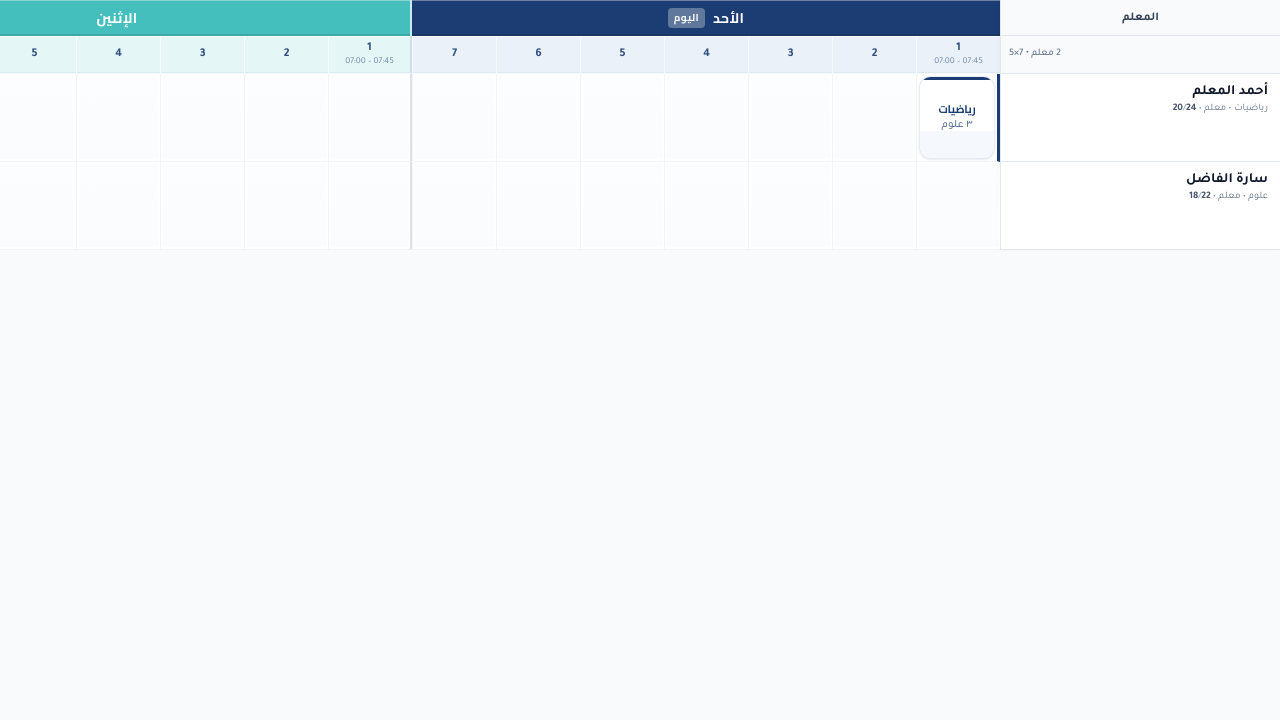
Scenario: MasterMatrix — cell interactions (Task #142) › clicking a filled session cell opens the read-only SessionDetailModal
The filled cell exposed via SessionCell renders as a button.
Click the button "رياضيات ٣ علوم". click: (957, 118)
box: [919, 76, 995, 159]
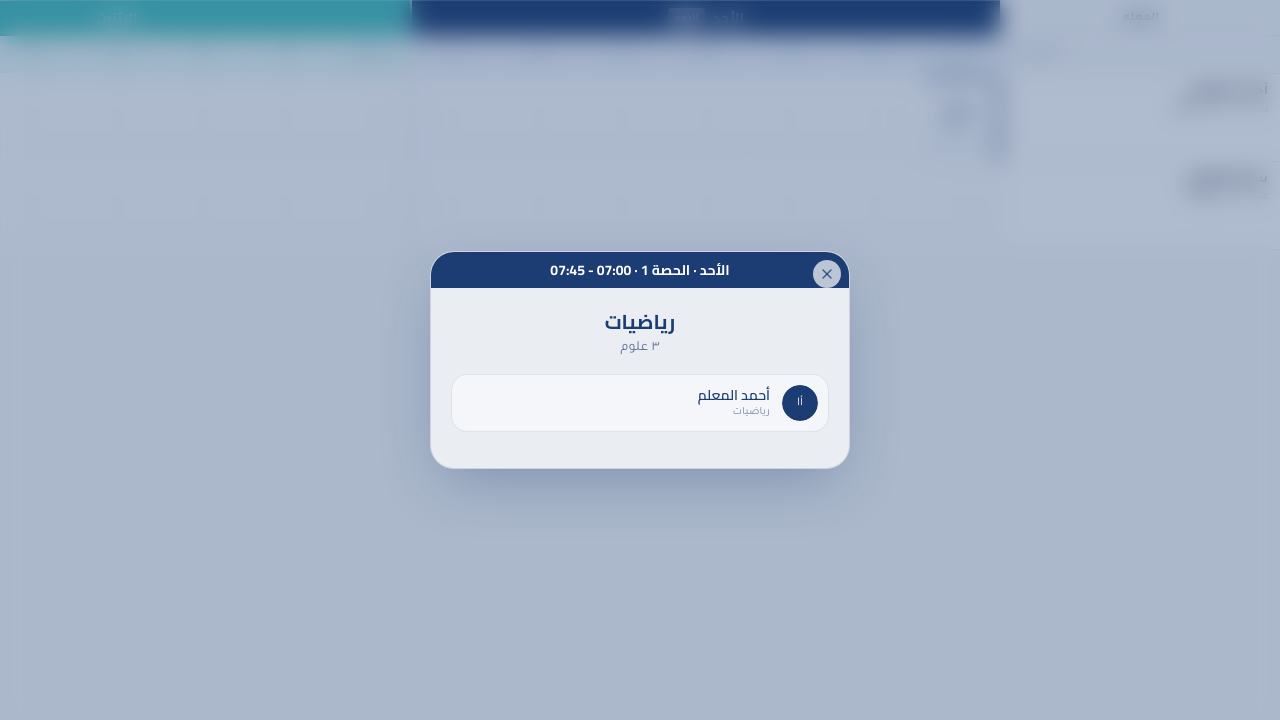
Now the element with test id "session-detail-modal" is shown
